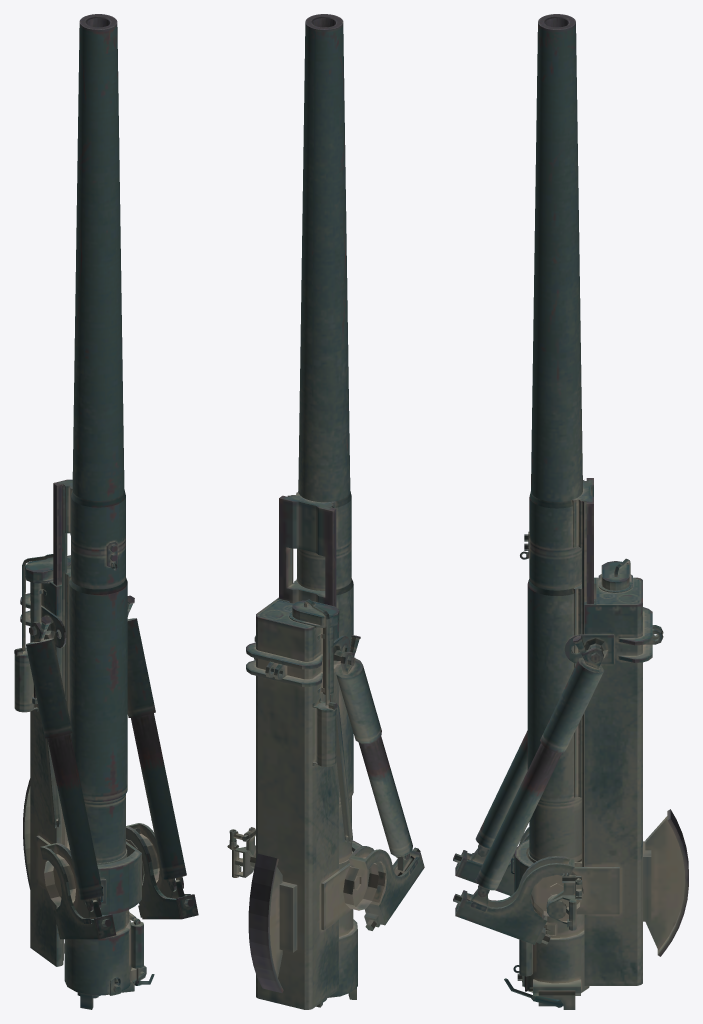
Rendered from Gun_02.glb.
The picture shows the model from 3 angles, left to right: view 1: azimuth 30°, elevation 25°; view 2: azimuth 150°, elevation 25°; view 3: azimuth 270°, elevation 25°; orthographic projection.
Parts seen in each view (by area): view 1: set_0_group_0; view 2: set_0_group_0; view 3: set_0_group_0.
Part boxes in pixels (x1,y1,x2,y2): set_0_group_0: (14, 14, 198, 1009); set_0_group_0: (227, 14, 424, 1009); set_0_group_0: (453, 14, 688, 1009).
Bounding box in the file's own units: 1.05 × 7.1 × 1.55.
1 material, 1 textured.
